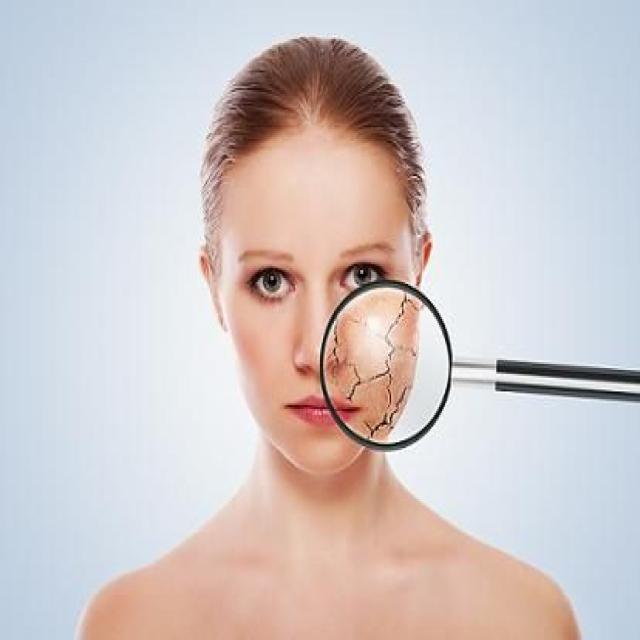Dry-Skin: (327, 288, 422, 444)
